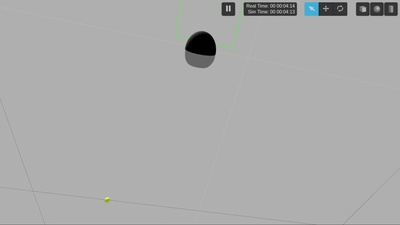mira_robot: (185, 30, 216, 68)
